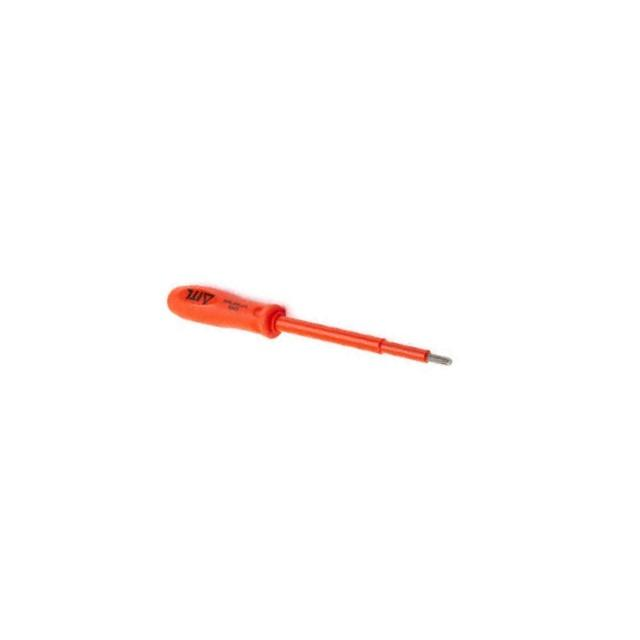screwdriver: (156, 170, 464, 484)
